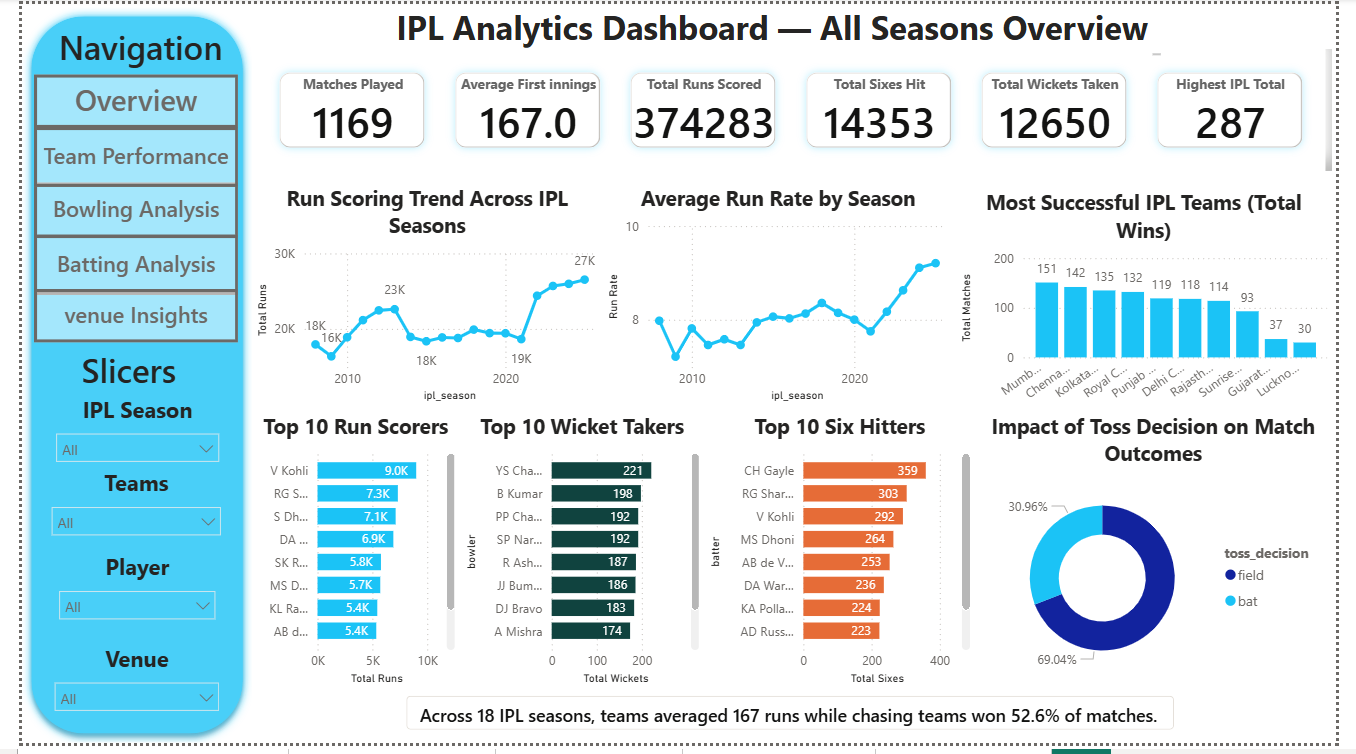

What the dashboard file says about the page in this screenshot:
{"tool":"powerbi","page":{"name":"IPL Tournament Overview","canvas":[1280,720],"ordinal":0},"visuals":[{"type":"cardVisual","fields":{"Data":["Table.Total Matches","Table.Avg First Innings Score","Table.Total Runs","Calculated_Measures.Total Sixes","Calculated_Measures.Total Wickets","Calculated_Measures.Highest IPL Total"]},"box":[228.6,43.9,1047.8,119.6],"z":0},{"type":"shape","box":[0,3.2,224.2,716.9],"z":500,"group":"g1"},{"type":"lineChart","title":"Run Scoring Trend Across IPL Seasons","fields":{"Y":["Calculated_Measures.Total Runs"],"Category":["matches.ipl_season"]},"box":[224.1,175.6,342.2,216.5],"z":1000},{"type":"clusteredColumnChart","title":"Most Successful IPL Teams (Total Wins)","fields":{"Category":["matches.match_won_by"],"Y":["Calculated_Measures.Total Matches"]},"box":[908.5,180.2,368,236.2],"z":2000},{"type":"slicer","title":"Venue","fields":{"Values":["matches.venue"]},"box":[22.1,622.2,180,72.6],"z":2937,"group":"g1"},{"type":"donutChart","title":"Impact of Toss Decision on Match Outcomes","fields":{"Category":["matches.toss_decision"],"Y":["Calculated_Measures.Toss Wins"]},"box":[928.2,398.2,348.3,269.5],"z":3000},{"type":"barChart","title":"Top 10 Run Scorers","fields":{"Y":["Calculated_Measures.Total Runs"],"Category":["deliveries.batter"]},"box":[224.1,398.2,202.9,269.5],"z":4000},{"type":"barChart","title":"Top 10 Wicket Takers","fields":{"Category":["deliveries.bowler"],"Y":["Calculated_Measures.Total Wickets"]},"box":[427,398.2,237.7,269.5],"z":5000},{"type":"actionButton","box":[11.1,69.3,198.9,52.1],"z":5375,"group":"g1"},{"type":"slicer","title":"IPL Season","fields":{"Values":["matches.Season Label"]},"box":[23.7,380.6,178.4,71.1],"z":5679,"group":"g1"},{"type":"actionButton","box":[11.1,173.5,198.9,53.7],"z":5984,"group":"g1"},{"type":"barChart","title":"Top 10 Six Hitters","fields":{"Category":["deliveries.batter"],"Y":["Calculated_Measures.Total Sixes"]},"box":[664.7,398.2,263.5,269.5],"z":6000},{"type":"slicer","title":"Player","fields":{"Values":["deliveries.batter"]},"box":[26.8,533.7,172.1,75.8],"z":6288,"group":"g1"},{"type":"actionButton","box":[11.1,225.6,198.9,58.4],"z":6593,"group":"g1"},{"type":"group","id":"g1","title":"Group 1","box":[0,3.2,224.2,716.9],"z":7000},{"type":"slicer","title":"Teams","fields":{"Values":["matches.team1"]},"box":[18.9,451.6,184.7,69.5],"z":7202,"group":"g1"},{"type":"actionButton","box":[11.1,277.7,198.9,52.1],"z":7812,"group":"g1"},{"type":"lineChart","title":"Average Run Rate by Season","fields":{"Category":["matches.ipl_season"],"Y":["Calculated_Measures.Run Rate"]},"box":[566.3,175.6,342.2,216.5],"z":8000},{"type":"textbox","box":[360,0,754.7,55.3],"z":9000},{"type":"cardVisual","fields":{"Data":["Calculated_Measures.Tournament Insight"]},"box":[361.9,661.7,772.2,57.5],"z":10000},{"type":"textbox","box":[5.8,328.7,196.4,63.6],"z":10250,"group":"g1"},{"type":"textbox","box":[30,14.3,178.4,60],"z":10750,"group":"g1"},{"type":"actionButton","box":[11.1,119.8,198.9,58.4],"z":11250,"group":"g1"}]}

Visuals, with their boxes in screenshot pixels (x1, y1, x2, y2), scaled from the page's 1280x720 canvas onto the 1356x754 screenshot:
cardVisual - Table.Total Matches x Table.Avg First Innings Score: left=242, top=46, right=1352, bottom=171
shape: left=0, top=3, right=238, bottom=753
"Run Scoring Trend Across IPL Seasons" lineChart: left=237, top=184, right=600, bottom=411
"Most Successful IPL Teams (Total Wins)" clusteredColumnChart: left=962, top=189, right=1352, bottom=436
"Venue" slicer: left=23, top=652, right=214, bottom=728
"Impact of Toss Decision on Match Outcomes" donutChart: left=983, top=417, right=1352, bottom=699
"Top 10 Run Scorers" barChart: left=237, top=417, right=452, bottom=699
"Top 10 Wicket Takers" barChart: left=452, top=417, right=704, bottom=699
actionButton: left=12, top=73, right=222, bottom=127
"IPL Season" slicer: left=25, top=399, right=214, bottom=473
actionButton: left=12, top=182, right=222, bottom=238
"Top 10 Six Hitters" barChart: left=704, top=417, right=983, bottom=699
"Player" slicer: left=28, top=559, right=211, bottom=638
actionButton: left=12, top=236, right=222, bottom=297
"Group 1" group: left=0, top=3, right=238, bottom=753
"Teams" slicer: left=20, top=473, right=216, bottom=546
actionButton: left=12, top=291, right=222, bottom=345
"Average Run Rate by Season" lineChart: left=600, top=184, right=962, bottom=411
textbox: left=381, top=0, right=1181, bottom=58
cardVisual - Calculated_Measures.Tournament Insight: left=383, top=693, right=1201, bottom=753
textbox: left=6, top=344, right=214, bottom=411
textbox: left=32, top=15, right=221, bottom=78
actionButton: left=12, top=125, right=222, bottom=187
